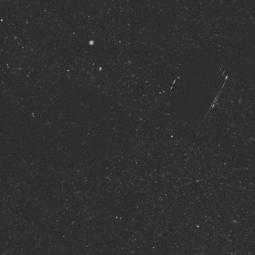earth_observation_sat_1: (155, 48, 232, 128)
